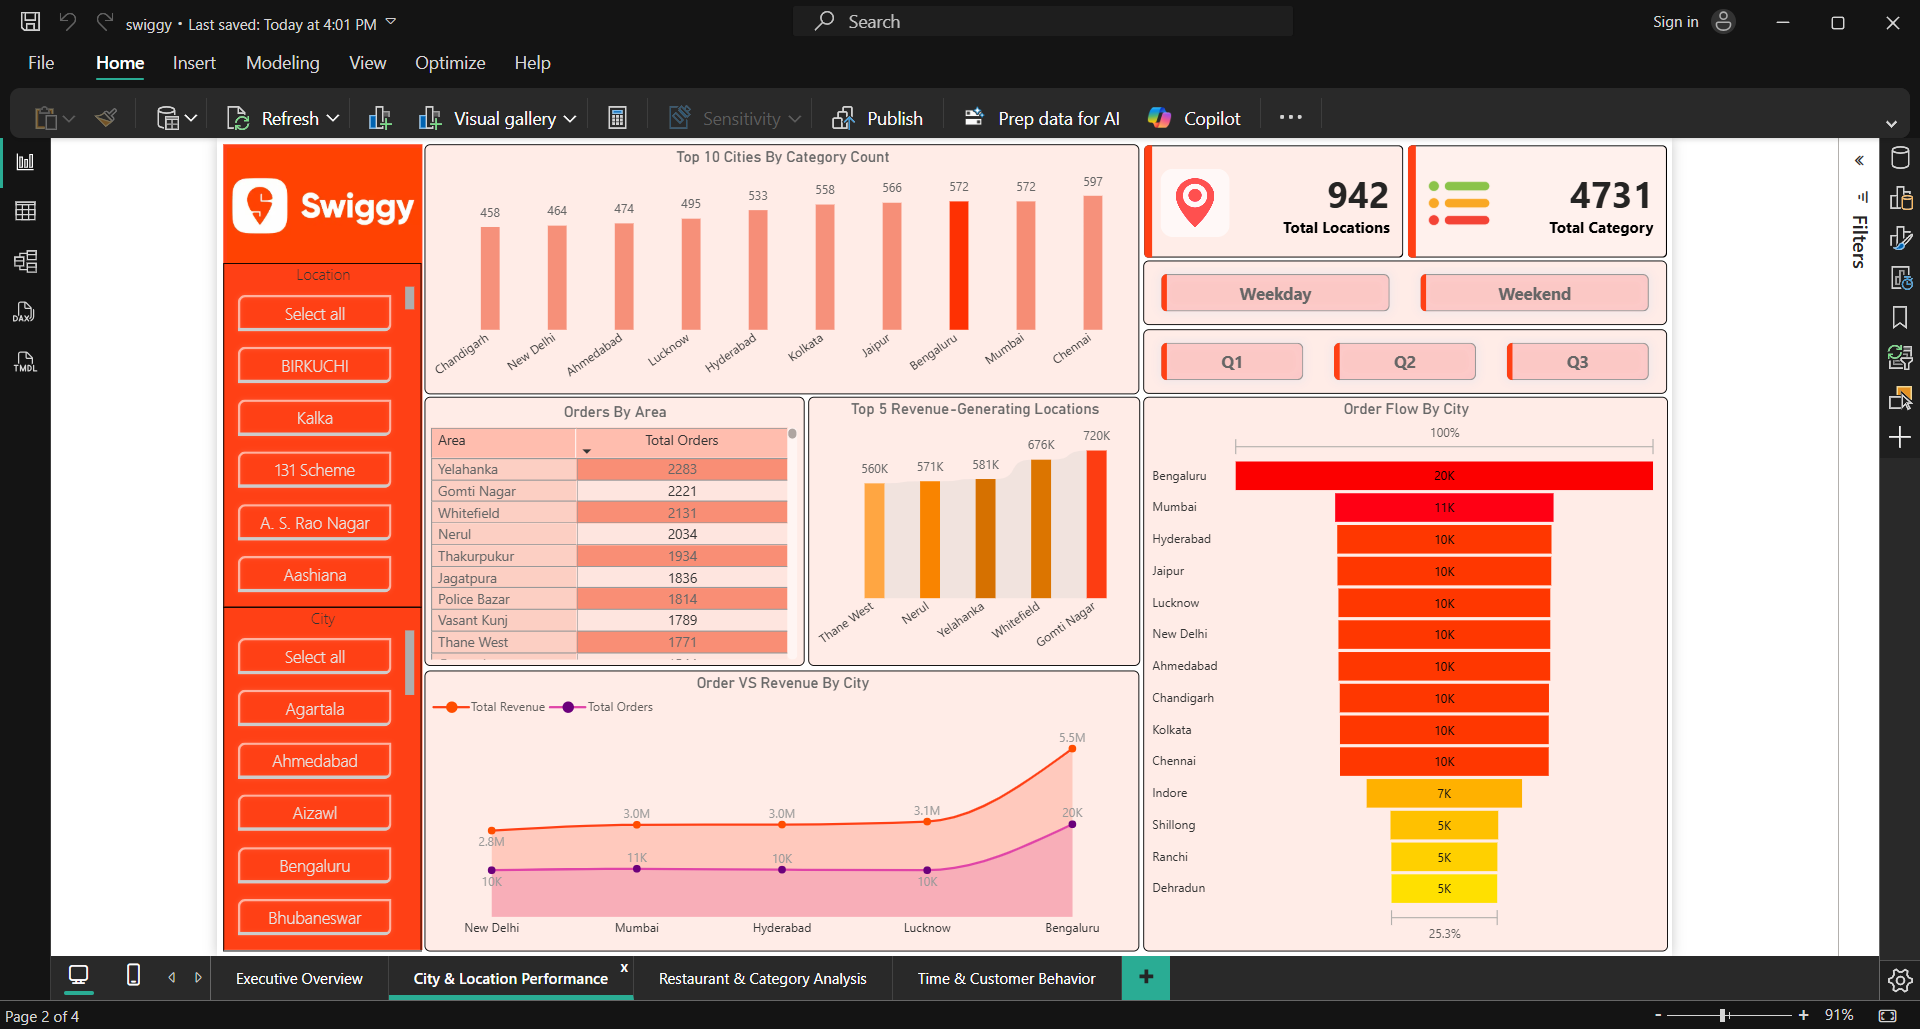

The page's visual inventory and layout, read from the dashboard file:
{"tool":"powerbi","page":{"name":"City & Location Performance","canvas":[1280,720],"ordinal":1},"visuals":[{"type":"shape","box":[5,5.8,175.4,708.7],"z":0},{"type":"image","box":[8.3,8.3,170,101.7],"z":1000},{"type":"listSlicer","title":"City","fields":{"Values":["swiggy.city"]},"box":[5,412.3,174,303.1],"z":2000},{"type":"listSlicer","title":"Location","fields":{"Values":["swiggy.location"]},"box":[5,109.6,174.6,303],"z":3000},{"type":"lineChart","title":"Order VS Revenue By City","fields":{"Category":["swiggy.city"],"Y":["swiggy.Total Revenue"],"Y2":["swiggy.Total Orders"]},"box":[183,468,629,247],"z":4000},{"type":"lineStackedColumnComboChart","title":"Top 10 Cities By Category Count","fields":{"Category":["swiggy.city"],"Y":["Count(swiggy.category)"]},"box":[183,5,629,220],"z":5000},{"type":"pivotTable","title":"Orders By Area","fields":{"Rows":["swiggy.location"],"Values":["swiggy.Total Orders"]},"box":[183,228,334,237],"z":6000},{"type":"funnel","title":"Order Flow By City","fields":{"Category":["swiggy.city"],"Y":["swiggy.Total Orders"]},"box":[815,227.7,461.4,487.8],"z":7000},{"type":"cardVisual","fields":{"Data":["Count(swiggy.location)","Count(swiggy.category)"]},"box":[815,5,463,101],"z":8000},{"type":"columnChart","title":"Top 5 Revenue-Generating Locations","fields":{"Category":["swiggy.location"],"Y":["swiggy.Total Revenue"]},"box":[520,228,292,237],"z":9000},{"type":"advancedSlicerVisual","fields":{"Values":["swiggy.Quarter"]},"box":[815,168,461,57],"z":10000},{"type":"advancedSlicerVisual","fields":{"Values":["swiggy.Day Type"]},"box":[815,108,461,57],"z":11000}]}

Visuals, with their boxes on the page's 1280x720 design canvas (x1, y1, x2, y2). These are canvas units, not pixel positions in the 1920x1029 screenshot, which may show the page scaled, cropped or inside an application window:
shape: rect(5, 6, 180, 714)
image: rect(8, 8, 178, 110)
"City" listSlicer: rect(5, 412, 179, 715)
"Location" listSlicer: rect(5, 110, 180, 413)
"Order VS Revenue By City" lineChart: rect(183, 468, 812, 715)
"Top 10 Cities By Category Count" lineStackedColumnComboChart: rect(183, 5, 812, 225)
"Orders By Area" pivotTable: rect(183, 228, 517, 465)
"Order Flow By City" funnel: rect(815, 228, 1276, 716)
cardVisual - Count(swiggy.location) x Count(swiggy.category): rect(815, 5, 1278, 106)
"Top 5 Revenue-Generating Locations" columnChart: rect(520, 228, 812, 465)
advancedSlicerVisual - swiggy.Quarter: rect(815, 168, 1276, 225)
advancedSlicerVisual - swiggy.Day Type: rect(815, 108, 1276, 165)
